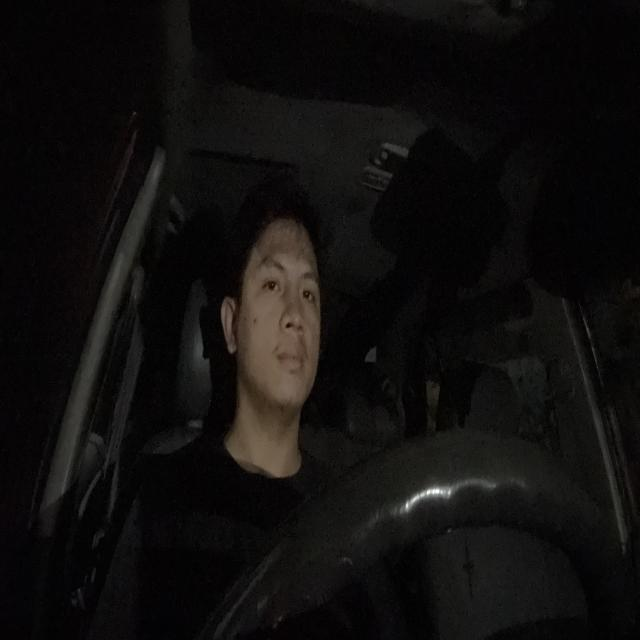open: (254, 253, 284, 304), (301, 264, 319, 314)
